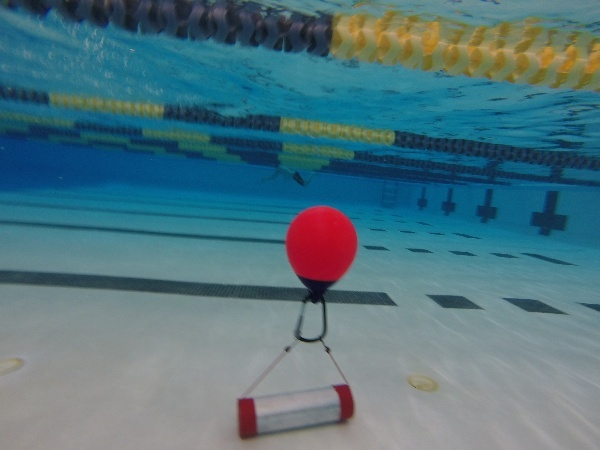buoy_red: (282, 203, 357, 305)
